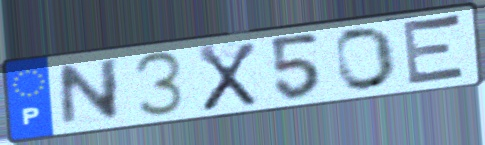3: (131, 49, 187, 120)
5: (268, 28, 324, 104)
E: (401, 11, 470, 89)
N: (56, 56, 123, 130)
O: (332, 24, 400, 93)
X: (195, 40, 259, 114)
